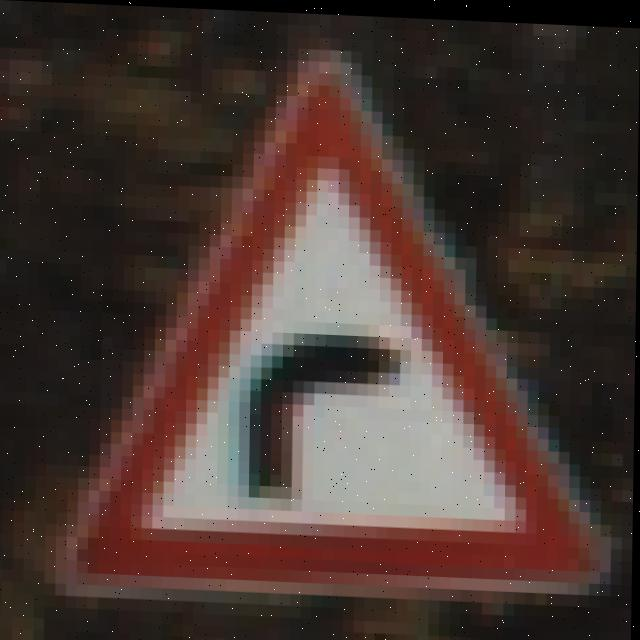right_turn: (57, 86, 610, 616)
